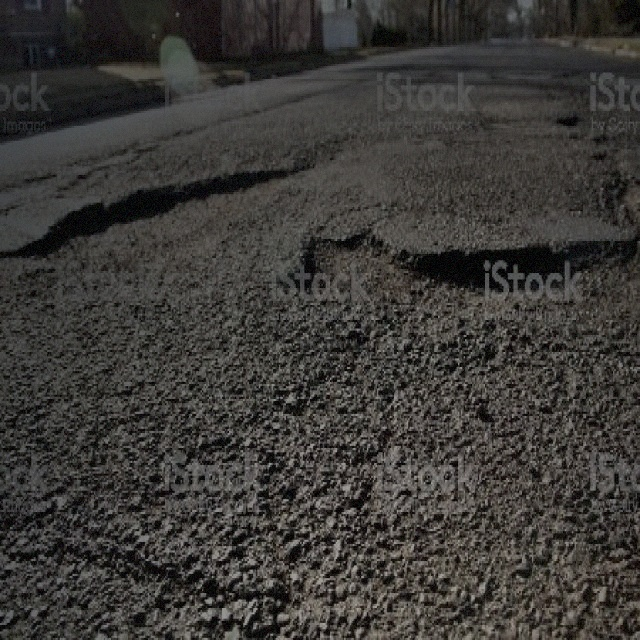pothole: (9, 156, 307, 290), (292, 224, 638, 320)
